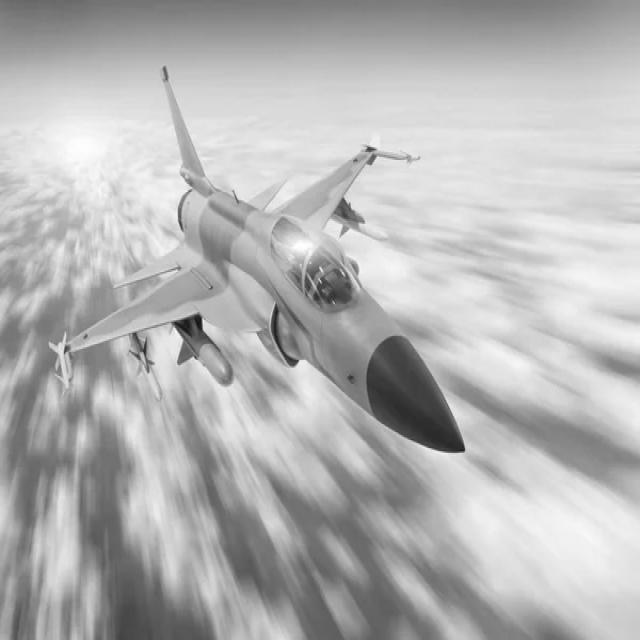Aircraft: (52, 62, 481, 466)
